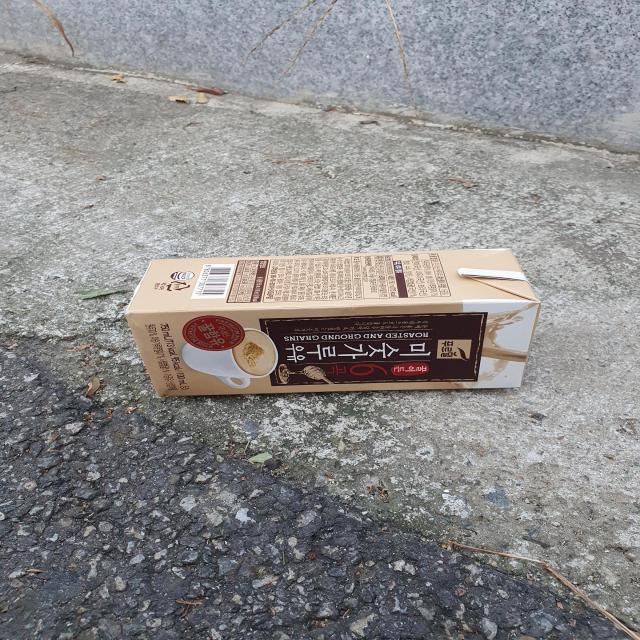paperpack: (125, 249, 541, 396)
